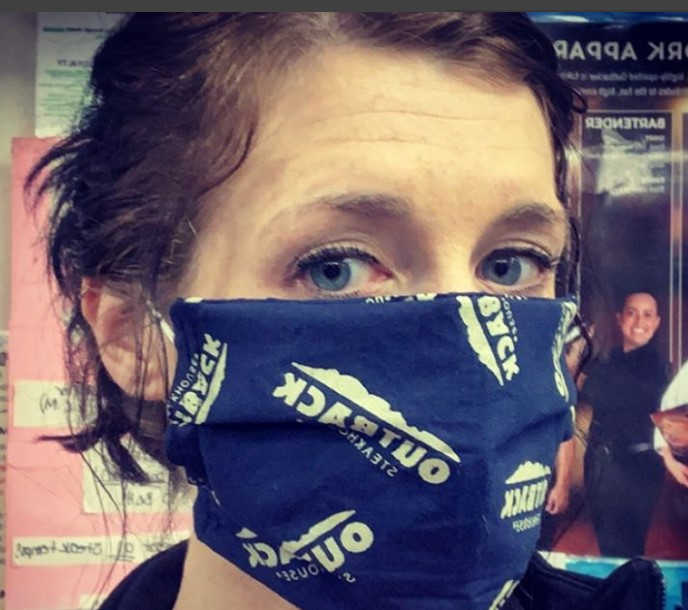face_no_mask: (613, 289, 663, 347)
face_with_mask: (69, 5, 579, 600)
